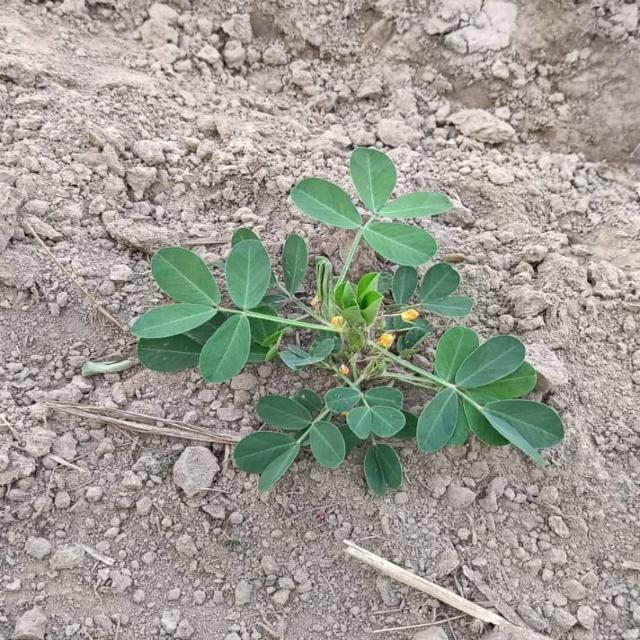plant: (131, 148, 564, 494)
